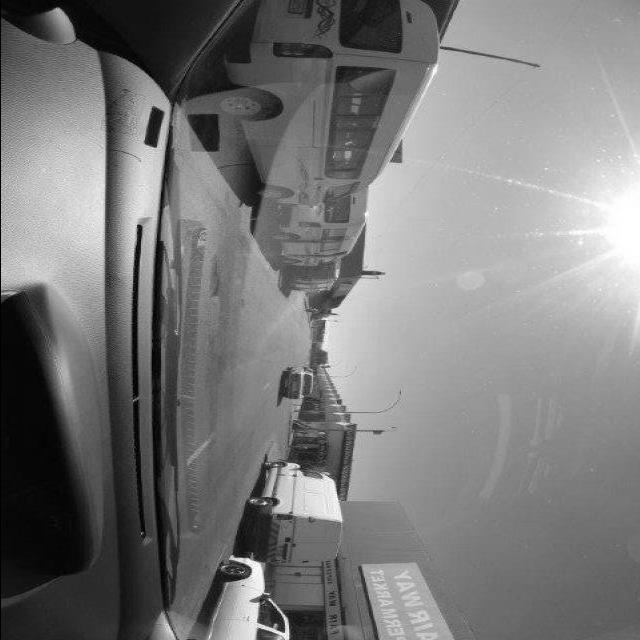lubang: (200, 254, 226, 302)
